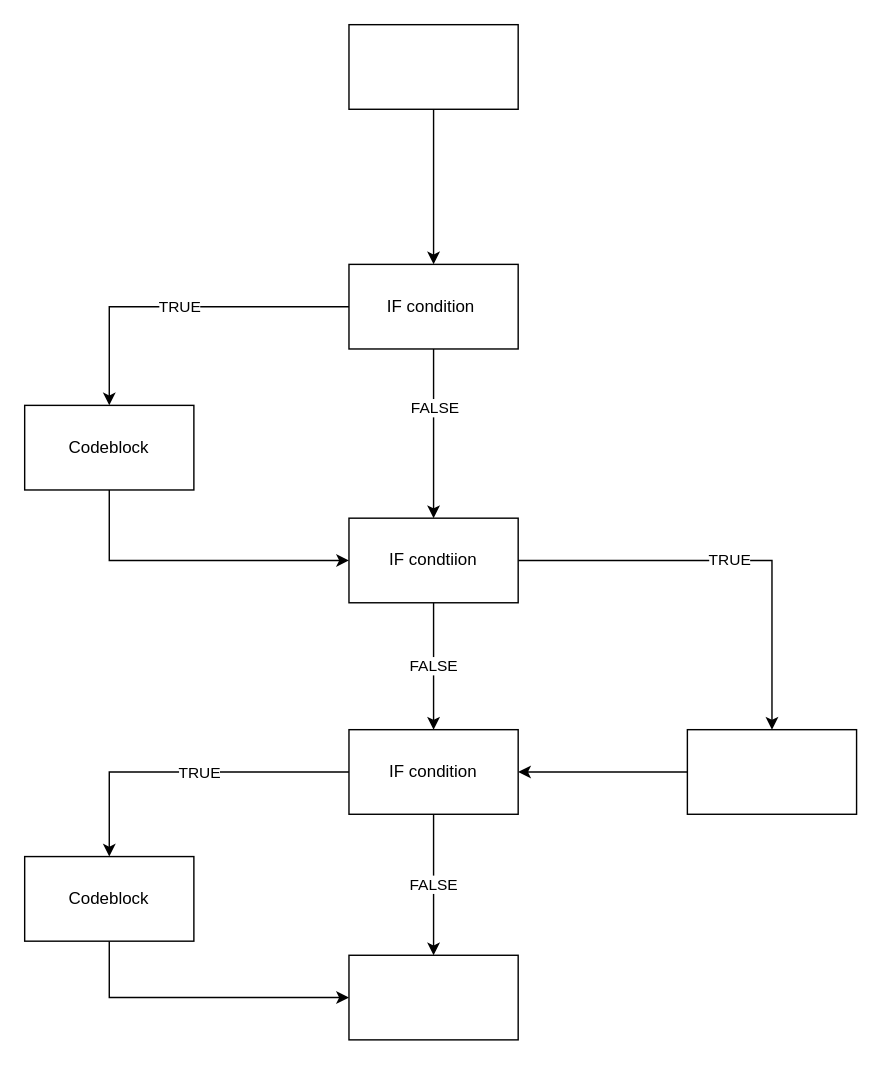
Some shapes in this 881 by 1065 pixel diagram are drawn without their labels. The shapes that lost their labels are listed below. From the top down, each one's centre as x and y in pixels, then its label:
At point (433, 66): "ZoneInfoCompiler. parseTime(str)".
At point (771, 771): "Codeclock".
At point (433, 997): "RETURN".
